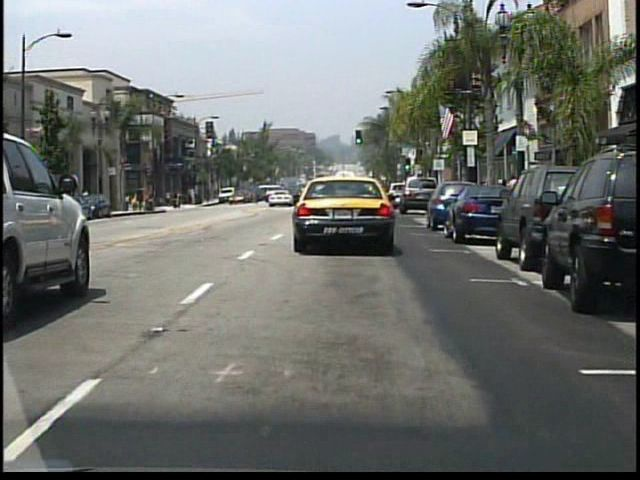person: (176, 190, 184, 210)
